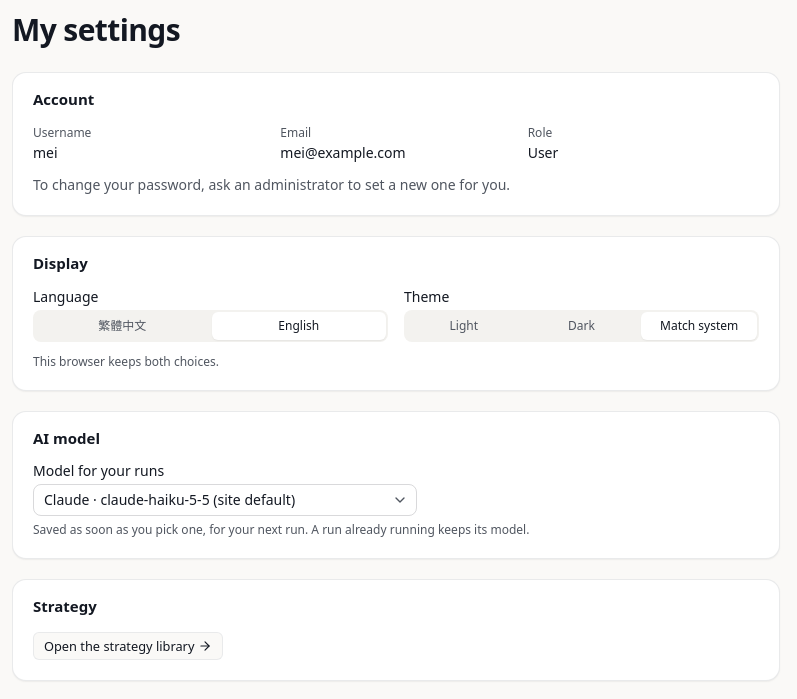
Test: My settings › offers the site’s models with its default marked, and saves a pick at once
Step 1. Click the dropdown named "Model for your runs" → [225, 500], box [33,484,417,516]
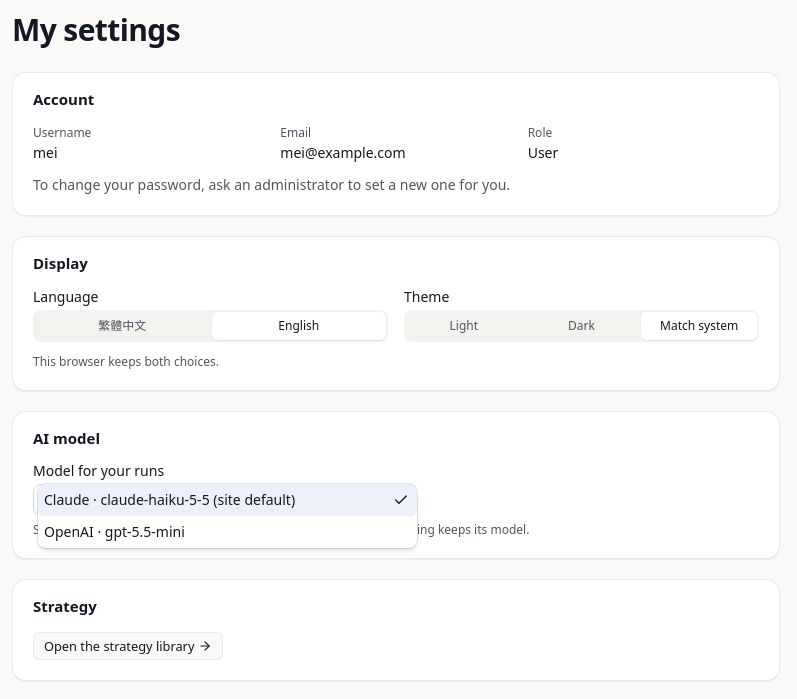
Check: the options read "Claude · claude-haiku-5-5 (site default)", "OpenAI · gpt-5.5-mini", in this order
Step 2. Click the option "OpenAI · gpt-5.5-mini" → [114, 531], box [44,522,185,541]
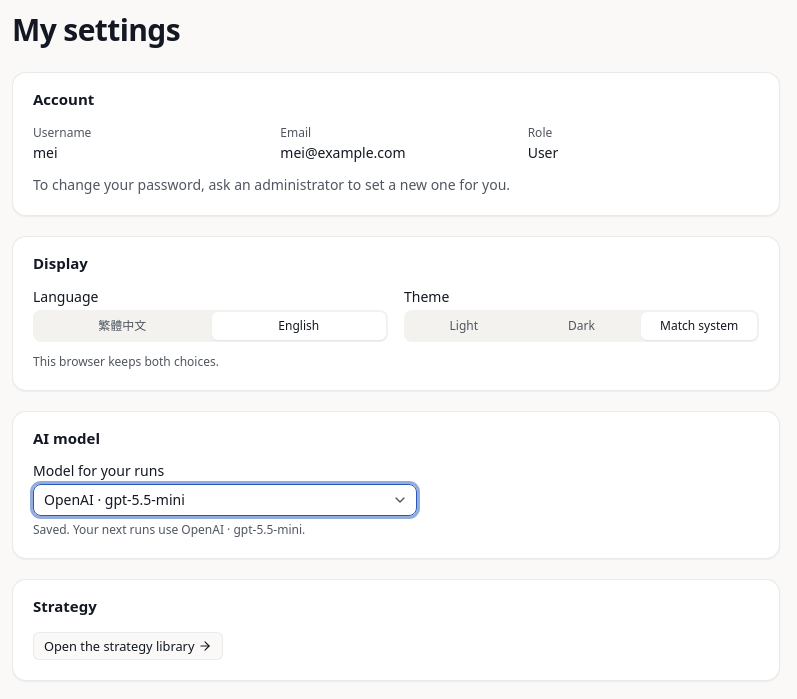
Check: the text "Saved. Your next runs use OpenAI · gpt-5.5-mini." is shown, box [33,521,305,538]
Check: the dropdown named "Model for your runs" reads "OpenAI · gpt-5.5-mini", box [33,484,417,516]
